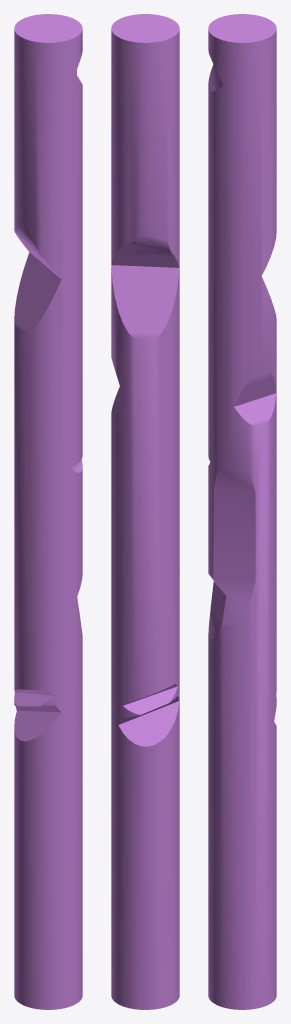
File: slup.fbx
3 views of the same model, side by side, from view 1: azimuth 90°, elevation 25°; view 2: azimuth 150°, elevation 25°; view 3: azimuth 270°, elevation 25° (orthographic).
Parts seen in each view (by area): view 1: slup; view 2: slup; view 3: slup.
Part boxes in pixels (x1,y1,x2,y2): slup: [14, 14, 82, 1009]; slup: [111, 14, 179, 1009]; slup: [208, 14, 276, 1009].
Bounding box in the file's own units: 30.53 × 476 × 30.53.
